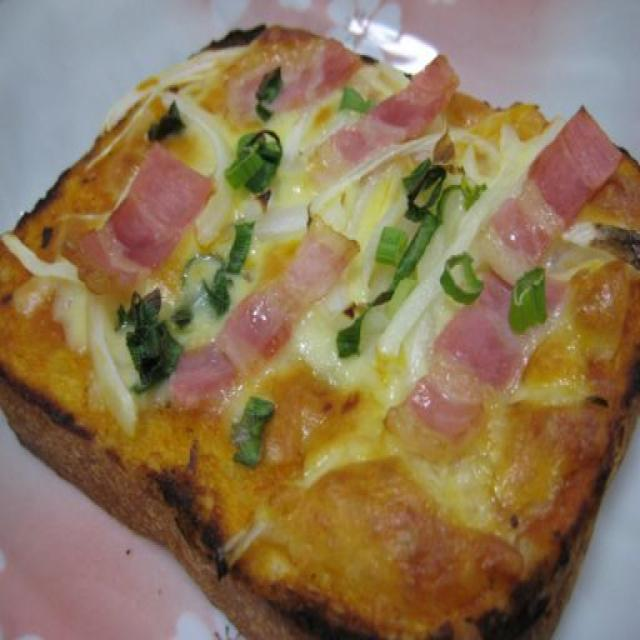面包点心: (0, 26, 635, 636)
